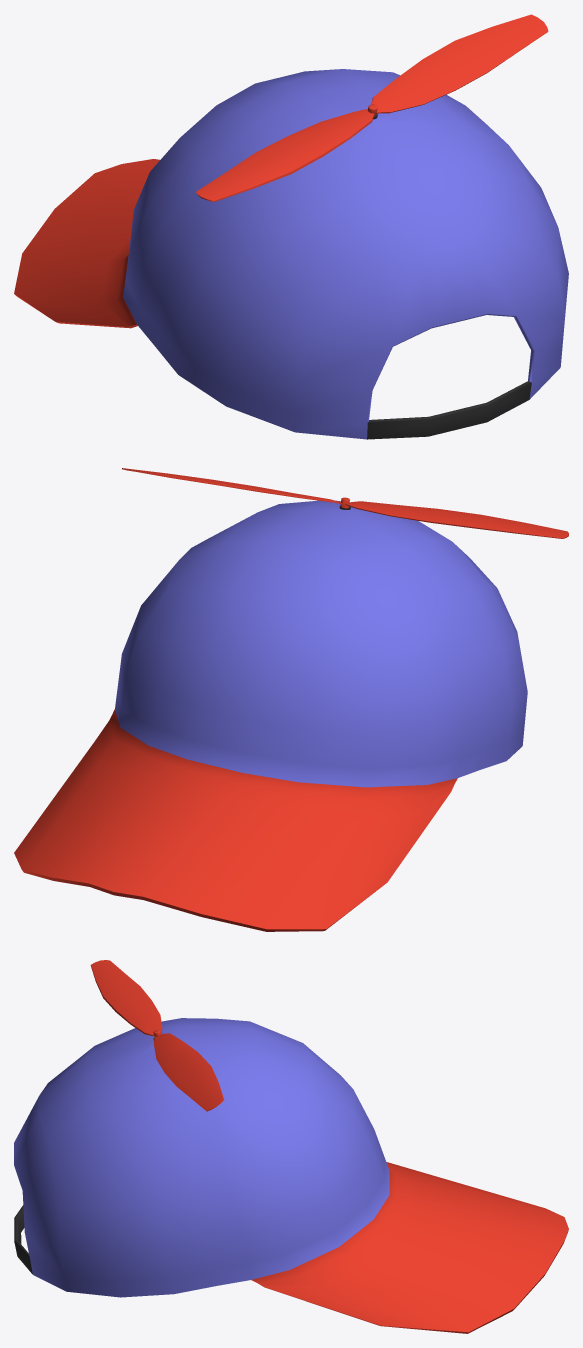
Rendered from baseballcap_propeller.glb.
3 renders of one model, top to bottom at view 1: azimuth 30°, elevation 25°; view 2: azimuth 150°, elevation 25°; view 3: azimuth 270°, elevation 25°, orthographic. The views are drawn at different scales.
Visible parts, largest first — view 1: 1.018, 2.009, 0.018, 3.003; view 2: 1.018, 2.009, 0.018; view 3: 1.018, 2.009, 0.018, 3.003.
Part boxes in pixels (x1,y1,x2,y2): 1.018: [123, 69, 568, 439]; 2.009: [14, 159, 159, 328]; 0.018: [196, 14, 548, 201]; 3.003: [367, 114, 531, 439]; 1.018: [115, 500, 527, 787]; 2.009: [14, 709, 457, 931]; 0.018: [122, 468, 568, 538]; 1.018: [14, 1018, 389, 1297]; 2.009: [251, 1162, 568, 1333]; 0.018: [90, 960, 224, 1111]; 3.003: [14, 1037, 154, 1274].
Size of the model in its own units: 0.4295 by 0.3002 by 0.6082.
